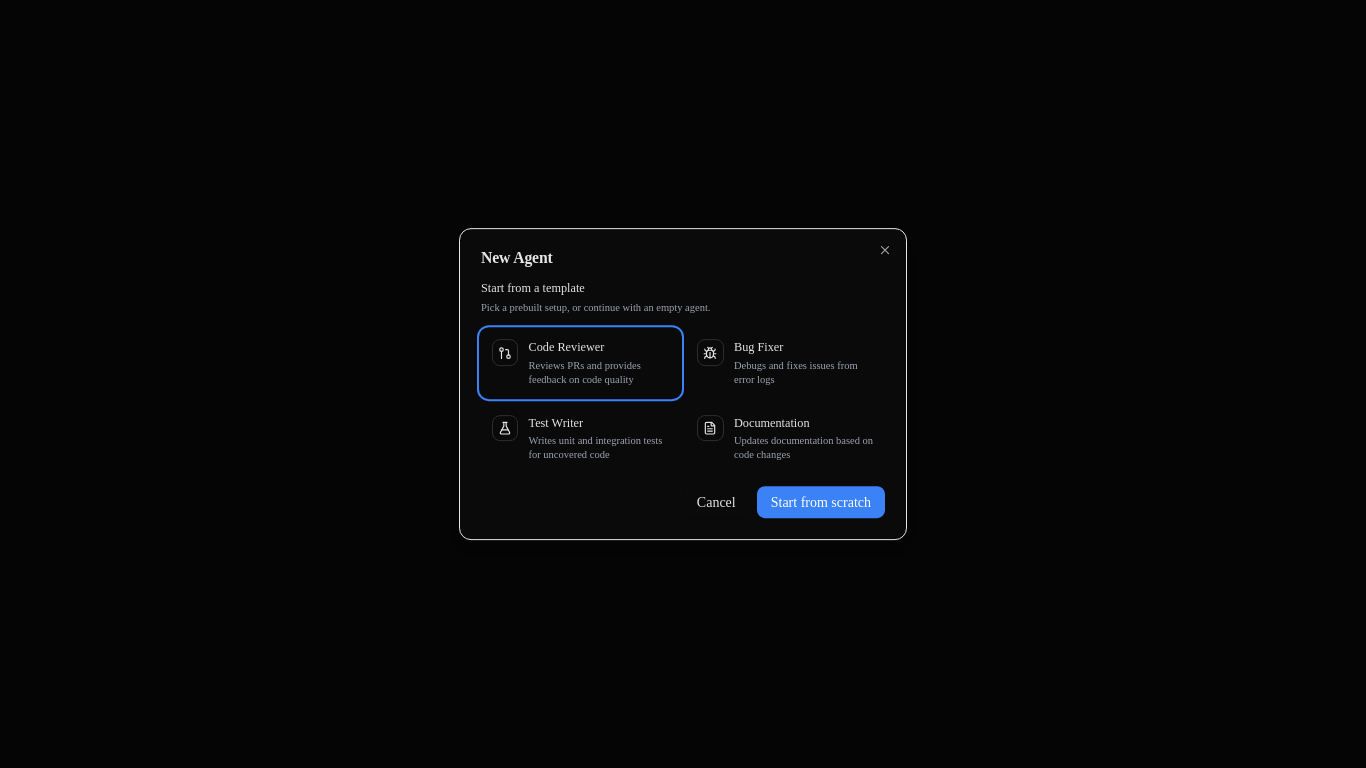
AgentFormDialog › create mode rendering › moves to create form when starting from scratch
Click the button "Start from scratch": (821, 502) x1=757 y1=486 x2=885 y2=518
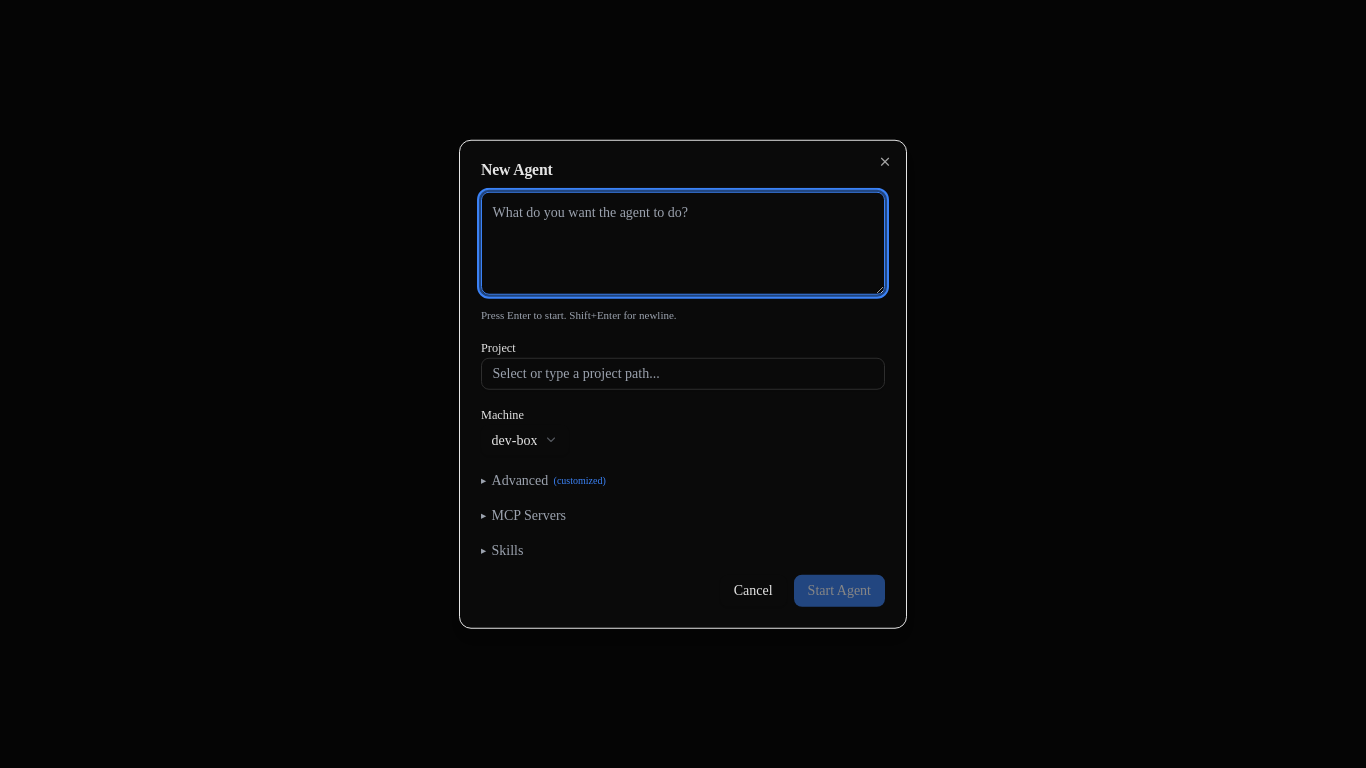
Expected: the text box named "Agent prompt" is shown, x1=481 y1=192 x2=885 y2=295
Expected: the text "Start from a template" is gone
